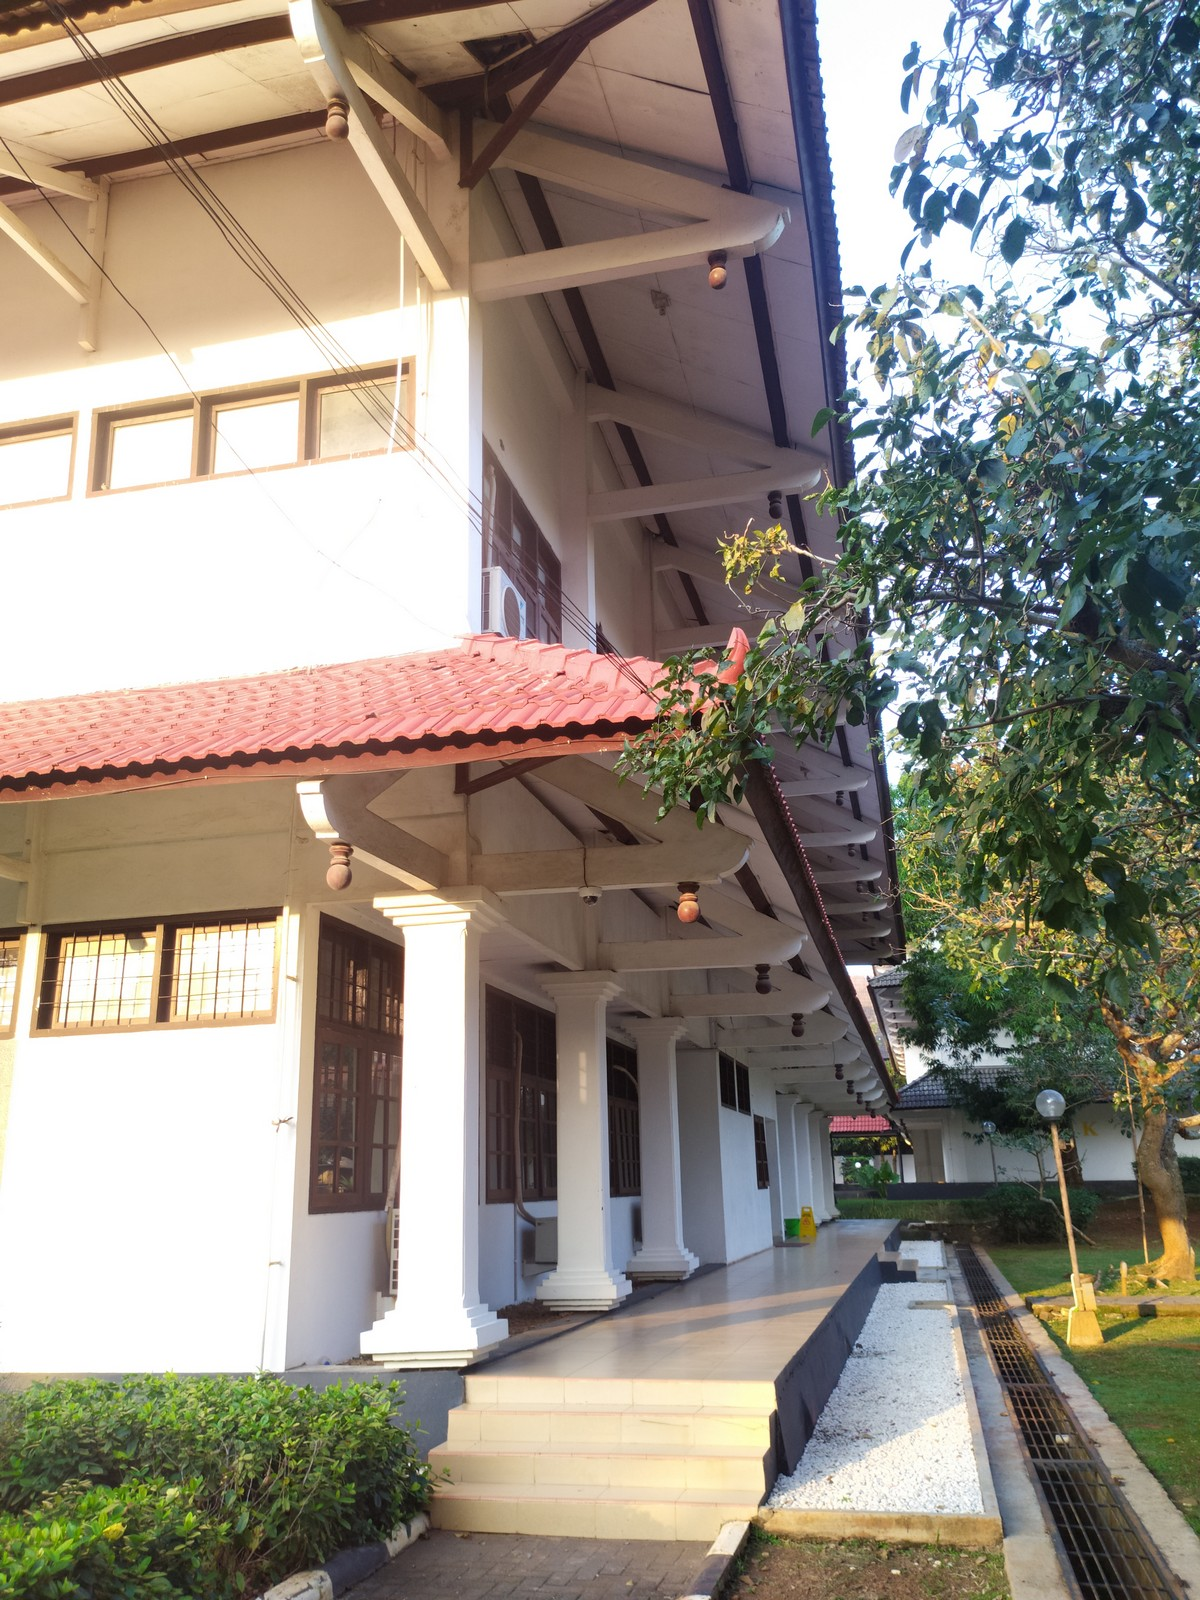concrete beam: (456, 222, 698, 312), (446, 829, 673, 910), (584, 927, 754, 981), (586, 474, 747, 529)
concrete column: (382, 917, 492, 1300), (411, 160, 494, 643), (550, 989, 618, 1281), (555, 379, 606, 648), (637, 1024, 691, 1259)
